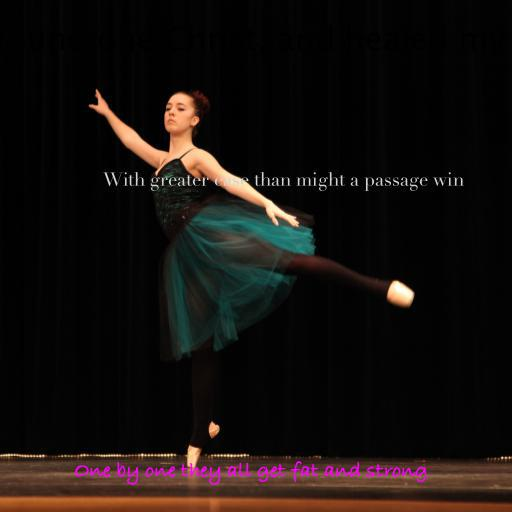Bradley Hand: (74, 461, 428, 485)
Didot: (102, 172, 464, 191)
Lucida Grande: (0, 25, 512, 57)
